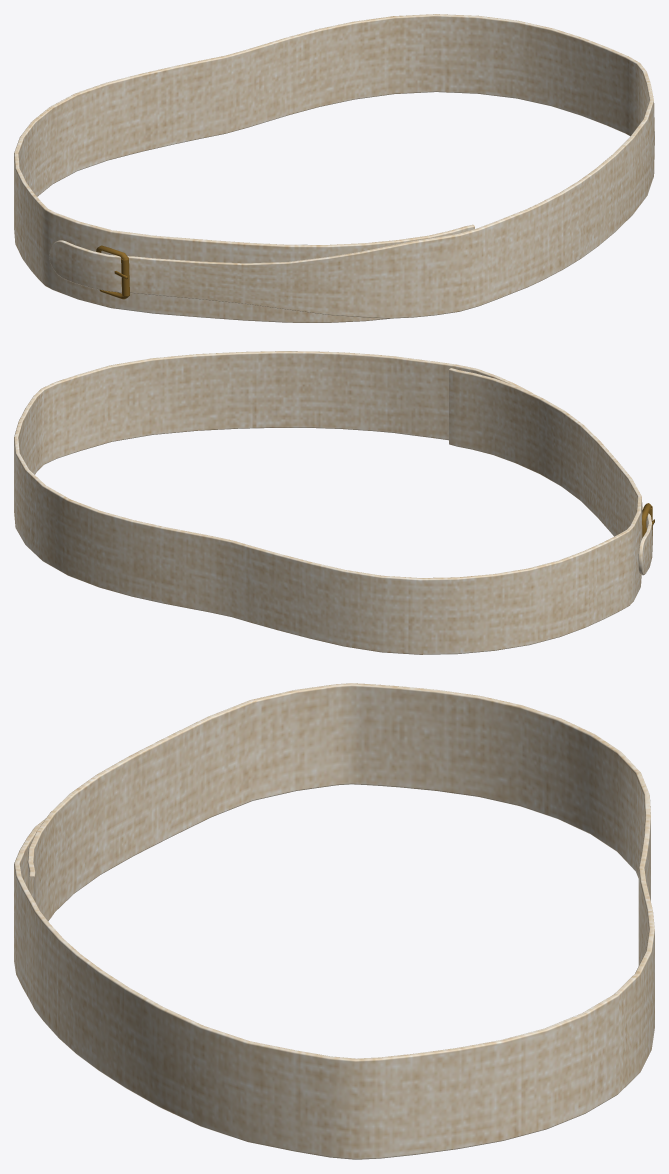
The model's file is Single_Side_Closure_5cm.glb.
The picture shows the model from 3 angles, top to bottom: view 1: azimuth 30°, elevation 25°; view 2: azimuth 150°, elevation 25°; view 3: azimuth 270°, elevation 25°; orthographic projection. The views are drawn at different scales.
Visible parts, largest first — view 1: Single_Side_Closure_4cm, Single_Side_Closure_huck; view 2: Single_Side_Closure_4cm; view 3: Single_Side_Closure_4cm.
Boxes of the visible parts, x1,y1,x2,y2 form: Single_Side_Closure_4cm: [14, 14, 654, 322]; Single_Side_Closure_huck: [96, 245, 129, 299]; Single_Side_Closure_4cm: [14, 351, 652, 654]; Single_Side_Closure_4cm: [14, 683, 654, 1159].
Bounding box in the file's own units: 0.0473 × 0.00577 × 0.0336.
Materials: 2 (1 with a texture image).
